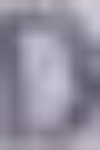D: (0, 0, 99, 149)
